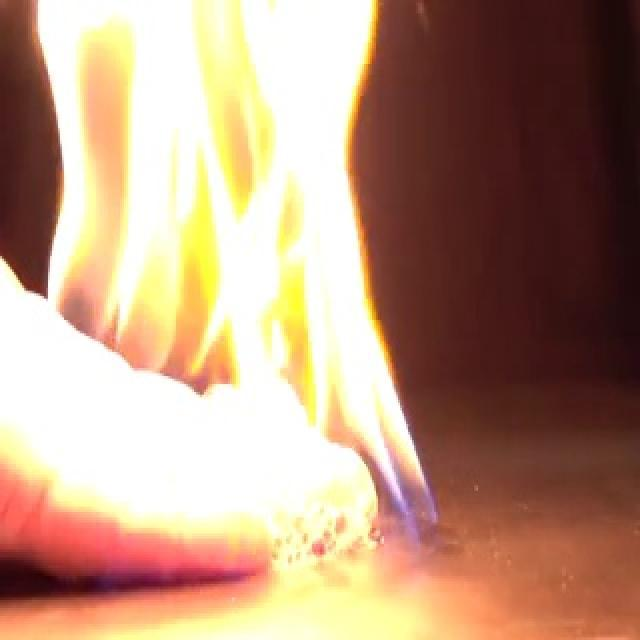fire: (16, 2, 430, 558)
